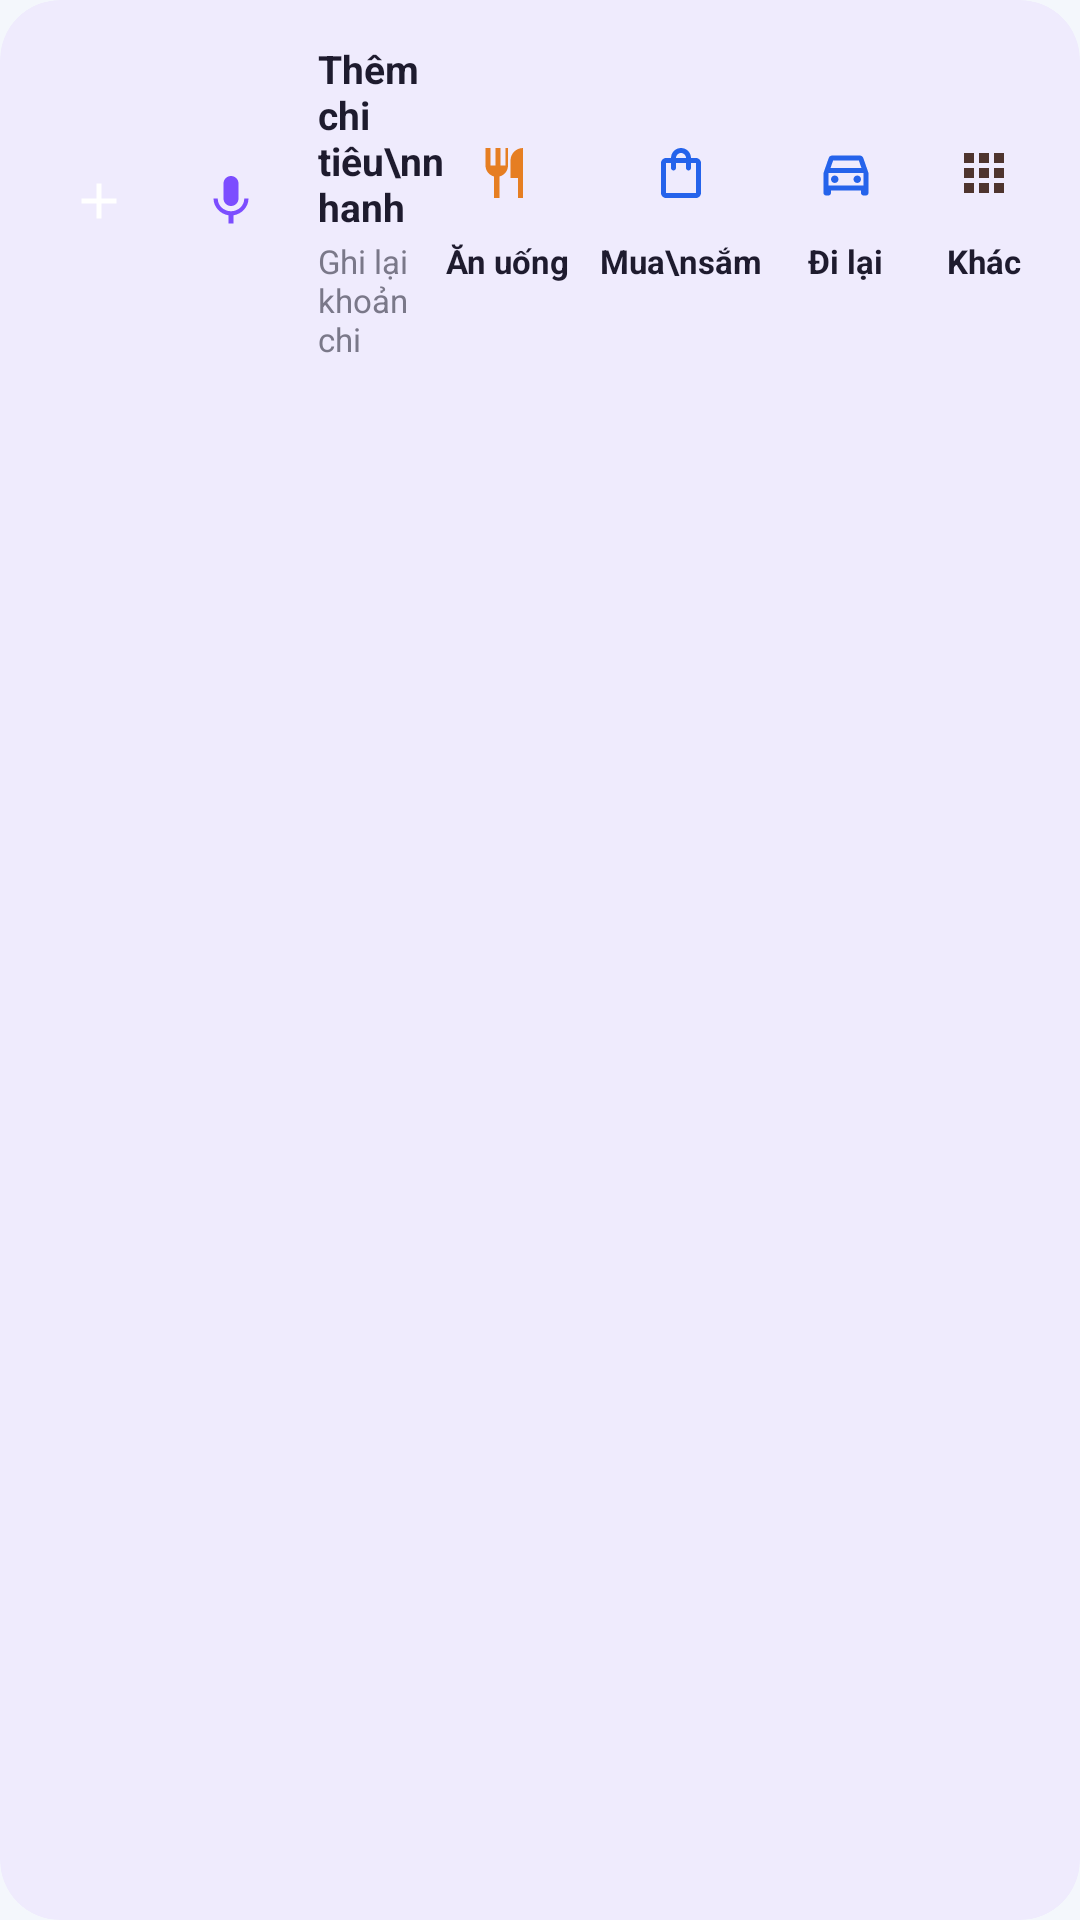

Locate icon controls on the screen. Image size 1080 x 1920, boxes as (x1, y1, x2, y2).
Ghi âm: (213, 176, 249, 224)
Mua sắm: (661, 148, 701, 198)
